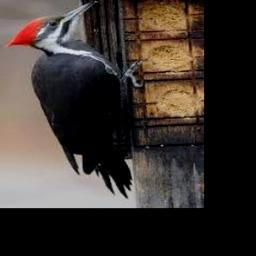Woodpecker: (5, 0, 145, 198)
